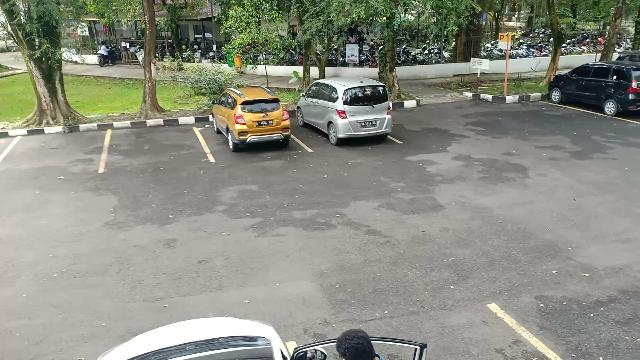empty: (0, 127, 110, 185), (102, 116, 208, 174)
occupied: (296, 88, 394, 152), (205, 96, 297, 162)
